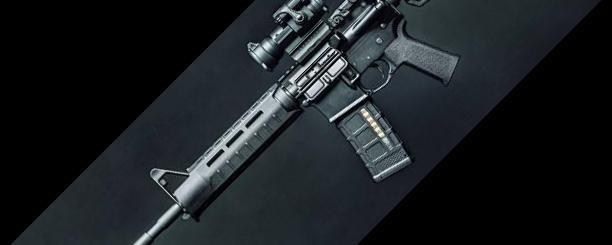larga: (132, 0, 460, 245)
